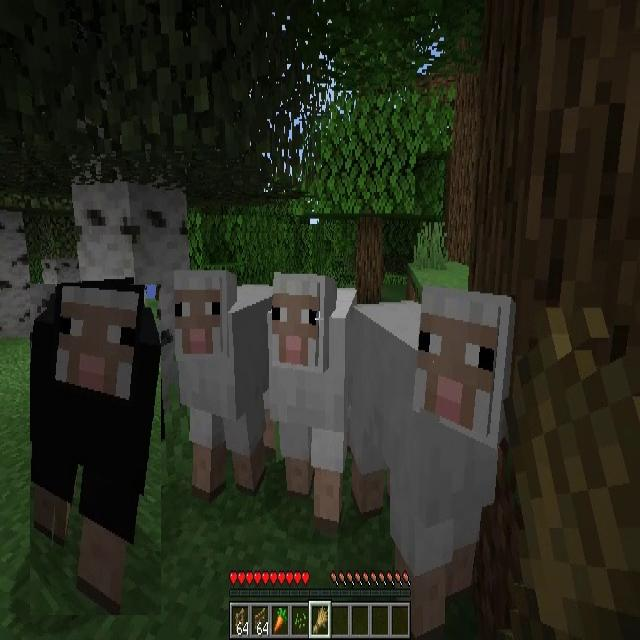sheep: (356, 288, 518, 632), (30, 284, 161, 615), (173, 270, 271, 494), (272, 273, 359, 504)
